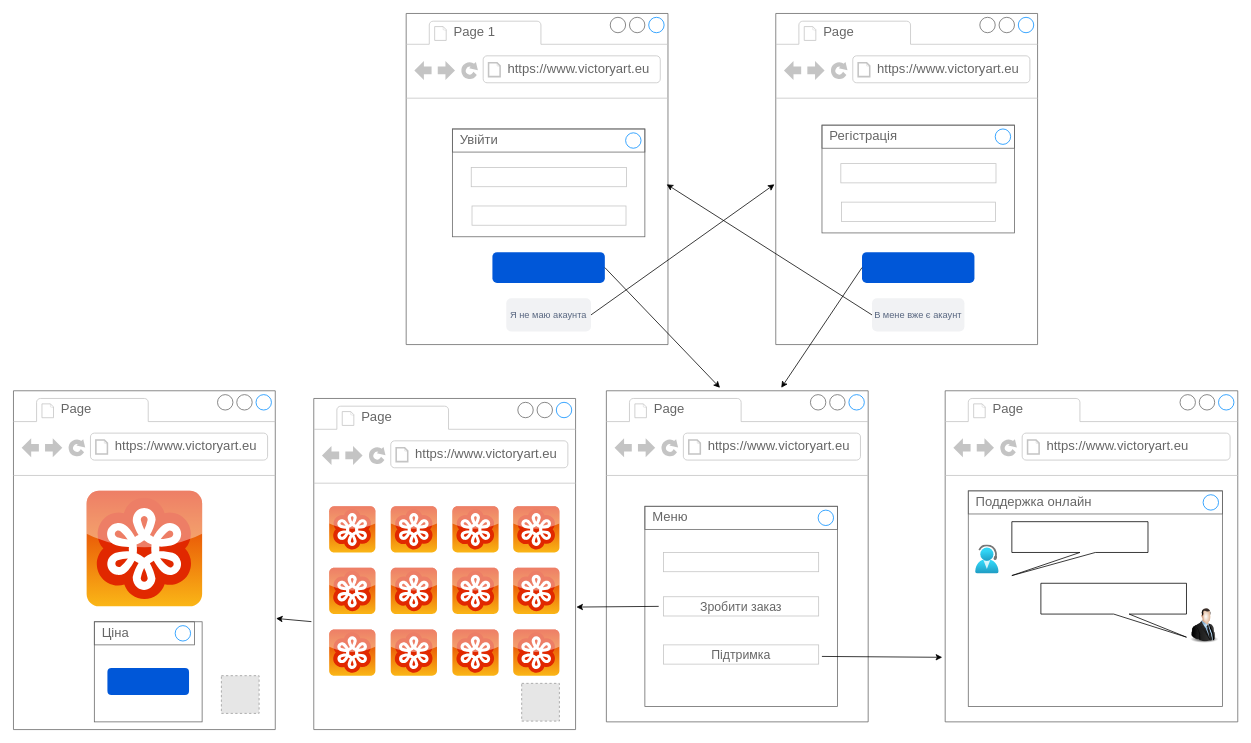
Image size: 1251x743. Some labels were removed from this diagram. Grey dashed boxes stand in for pictures. The centre of each missing label's shape, as x and y in pixels:
Ваші замовлення: the point at 741,562
Придбати: the point at 148,681
